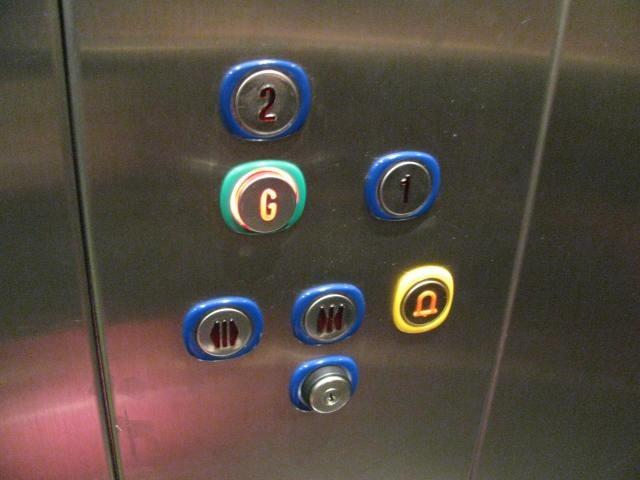1: (364, 150, 440, 227)
2: (216, 56, 311, 144)
G: (218, 157, 307, 238)
alarm: (392, 262, 455, 336)
close: (293, 282, 366, 344)
keyhole: (285, 353, 361, 418)
open: (180, 295, 263, 362)
